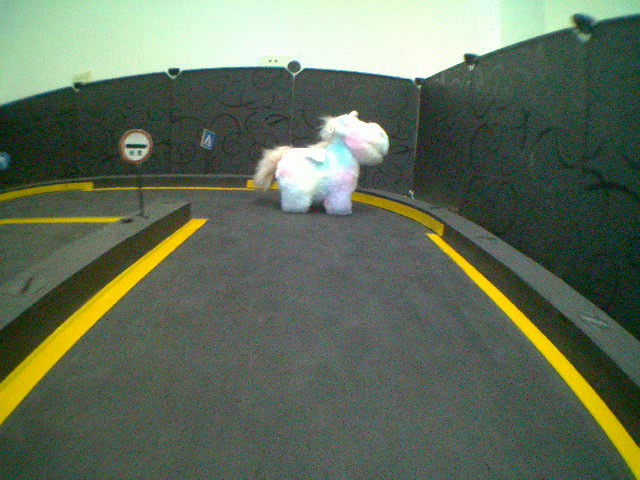unicorn: (250, 110, 392, 218)
